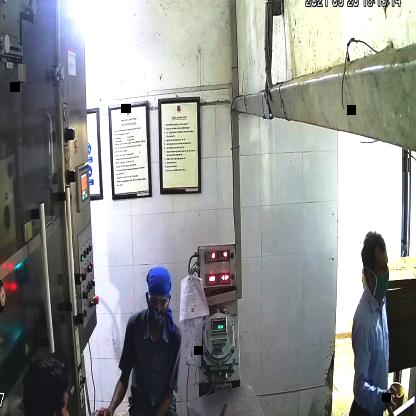goggles: (144, 288, 170, 314)
